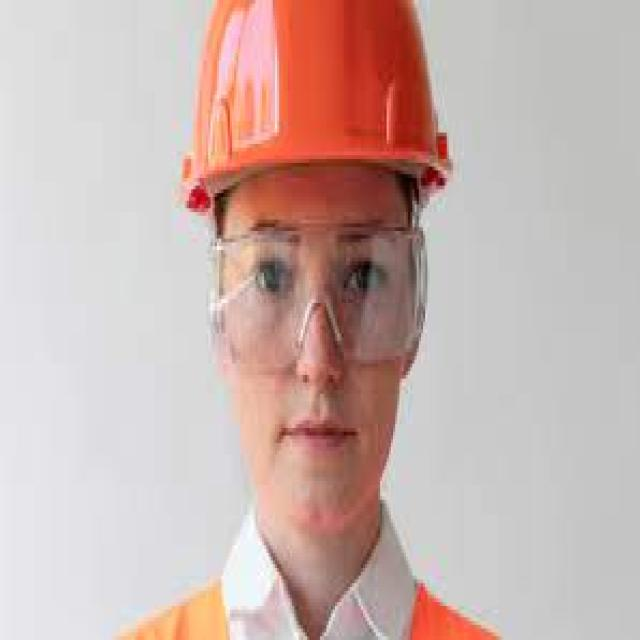glasses: (210, 222, 428, 366)
